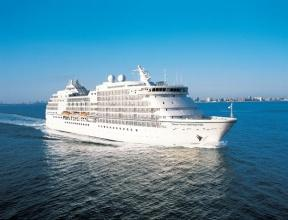youlun: (41, 73, 234, 147)
